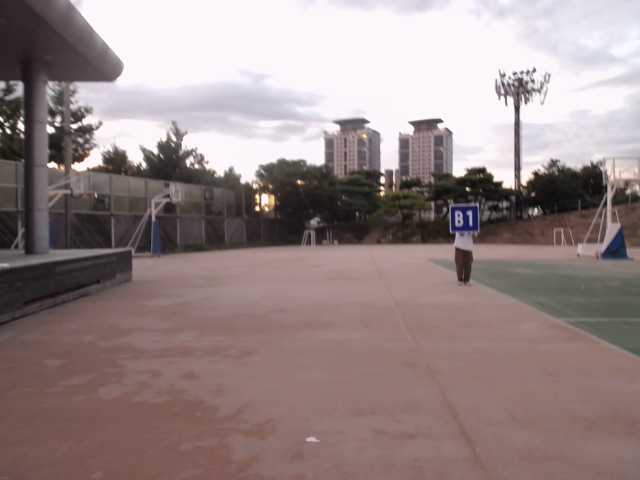delivery_b1: (450, 205, 479, 232)
